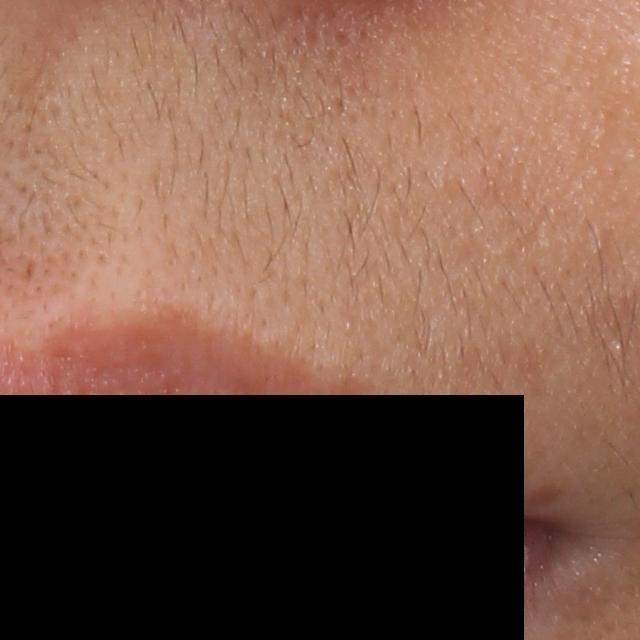comedo: (611, 340, 626, 358)
